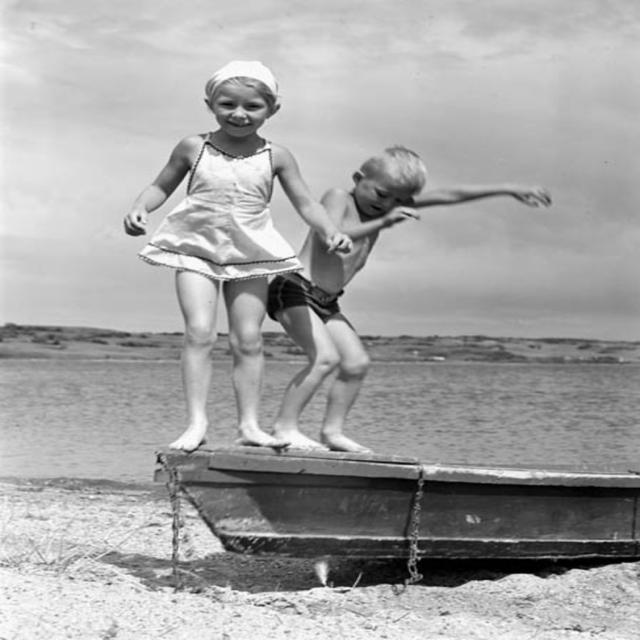Boat: (160, 444, 638, 556)
